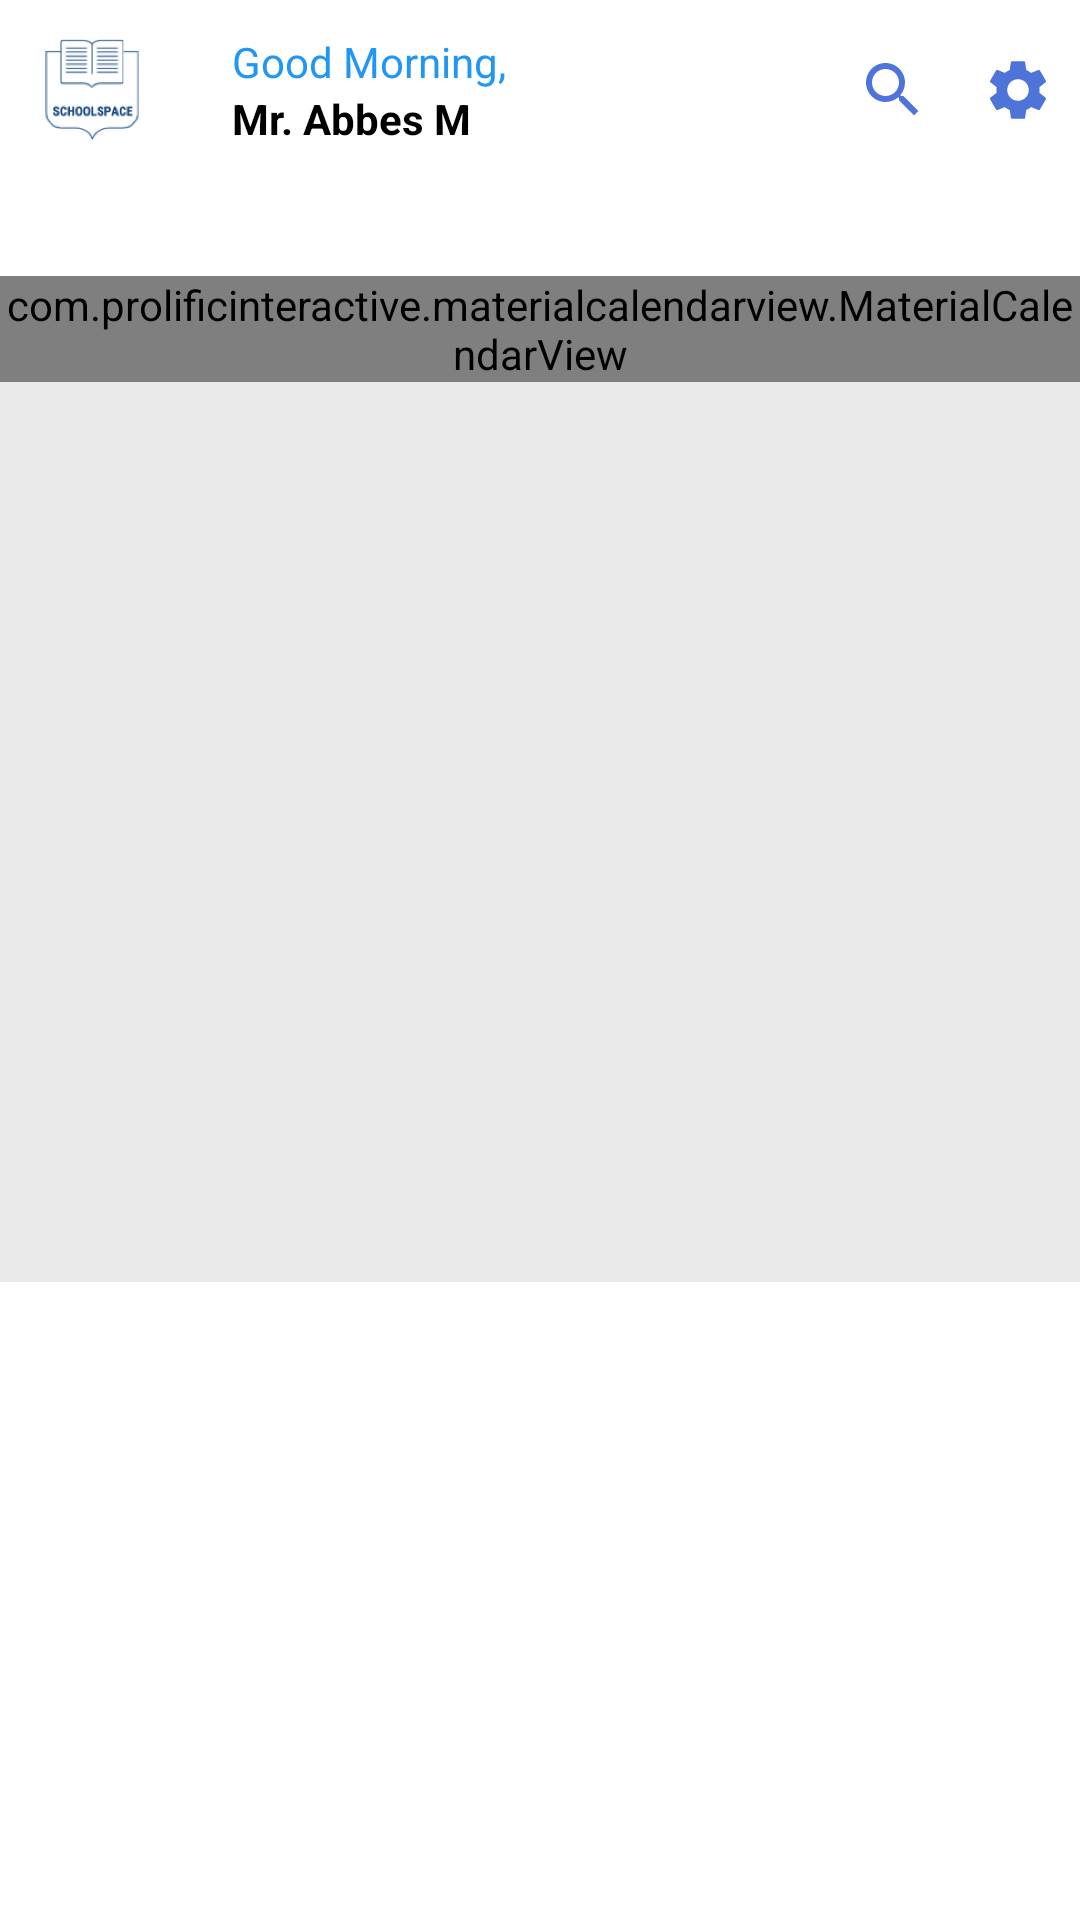

Screen size 1080 x 1920. Icon name, then its center in pixels as (x,y):
search: (892,89)
settings: (1018,90)
